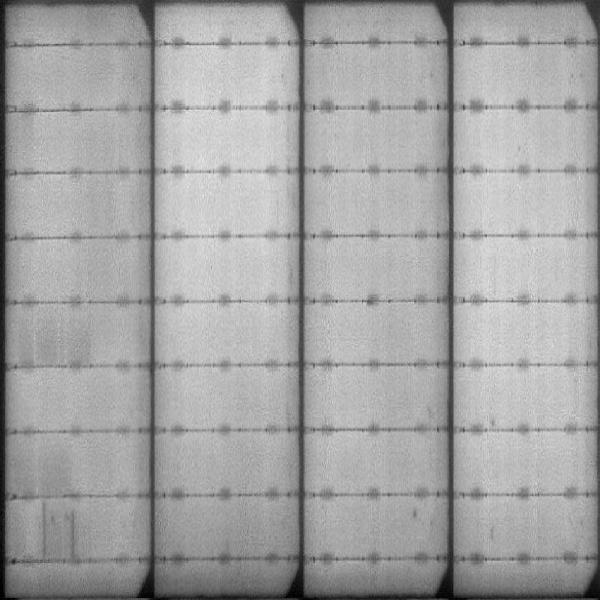scratch: (68, 512, 83, 562), (38, 505, 51, 561)
